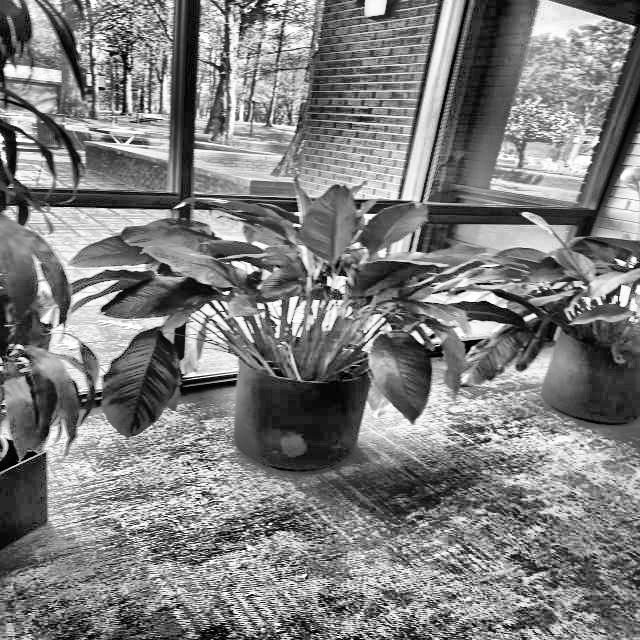plants: (110, 205, 462, 384), (505, 208, 640, 354)
